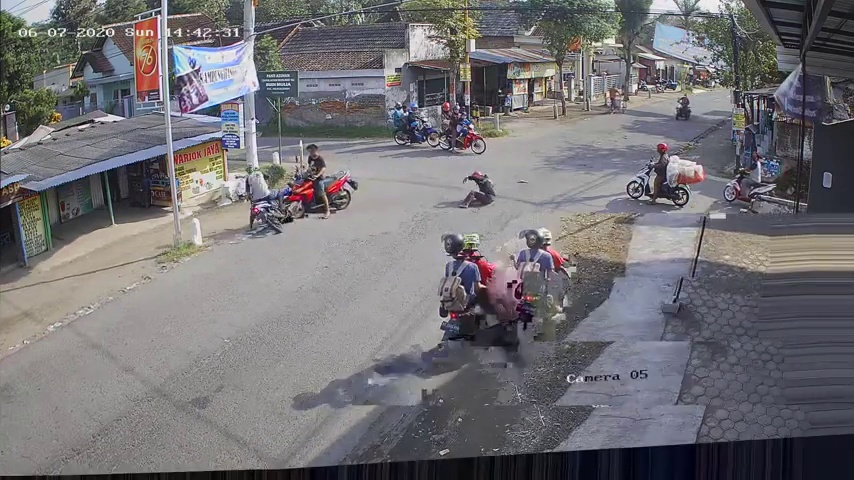motorbike: (434, 229, 514, 349), (512, 227, 578, 343), (287, 143, 350, 217), (630, 138, 689, 209), (237, 165, 291, 235), (434, 97, 487, 158), (387, 100, 441, 148), (675, 92, 693, 123)
